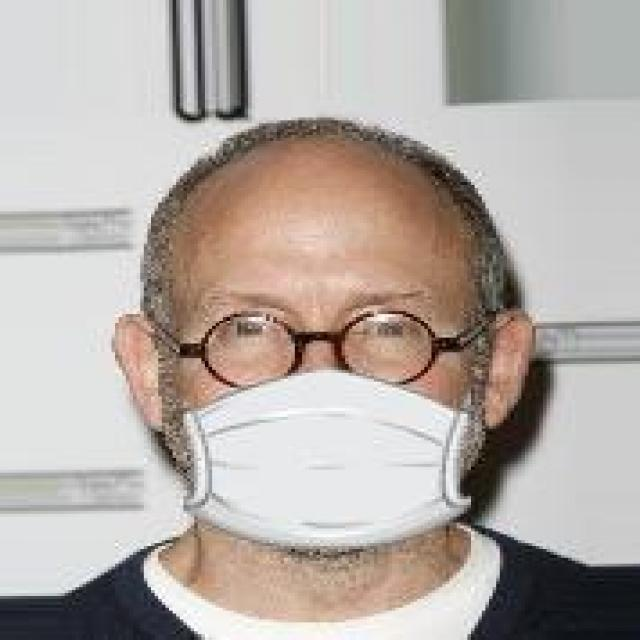mask: (119, 88, 572, 540)
